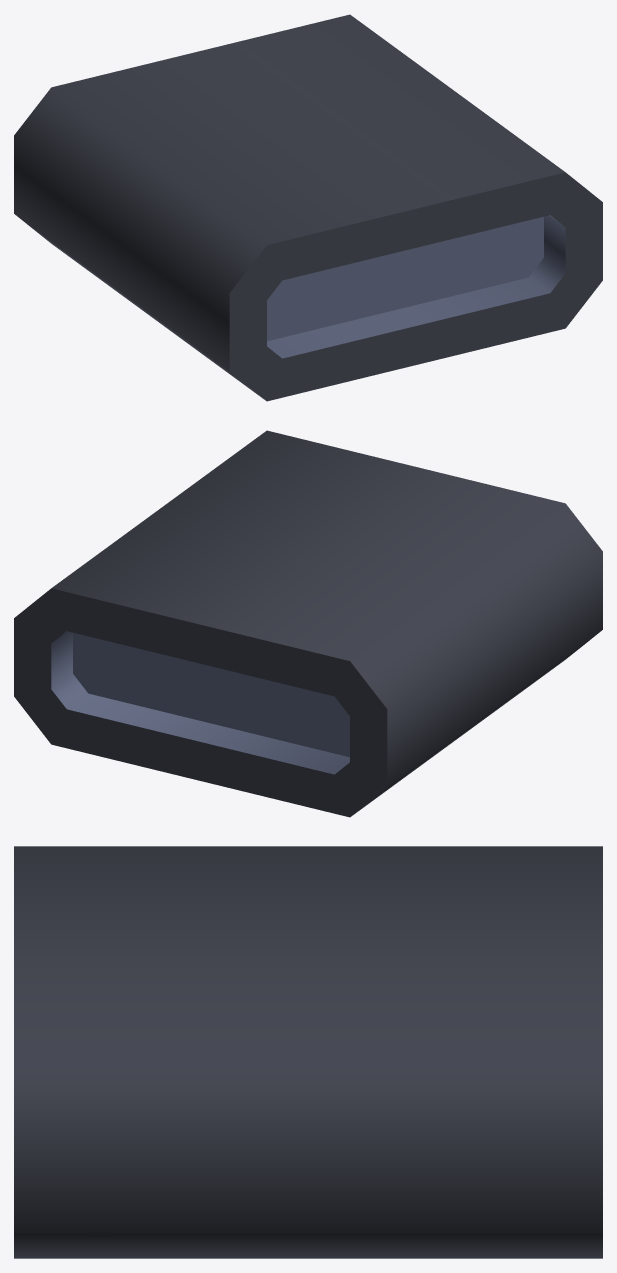
File: Conveyor-transformed.glb
3 renders of one model, top to bottom at view 1: azimuth 30°, elevation 25°; view 2: azimuth 150°, elevation 25°; view 3: azimuth 270°, elevation 25°, orthographic. The views are drawn at different scales.
Parts seen in each view (by area): view 1: conveyor; view 2: conveyor; view 3: conveyor.
Boxes of the visible parts, box(x1,y1,x2,y2) form: conveyor: box(14, 14, 602, 401); conveyor: box(14, 430, 602, 817); conveyor: box(14, 846, 602, 1258).
Bounding box in the file's own units: 1 × 0.4 × 1.
